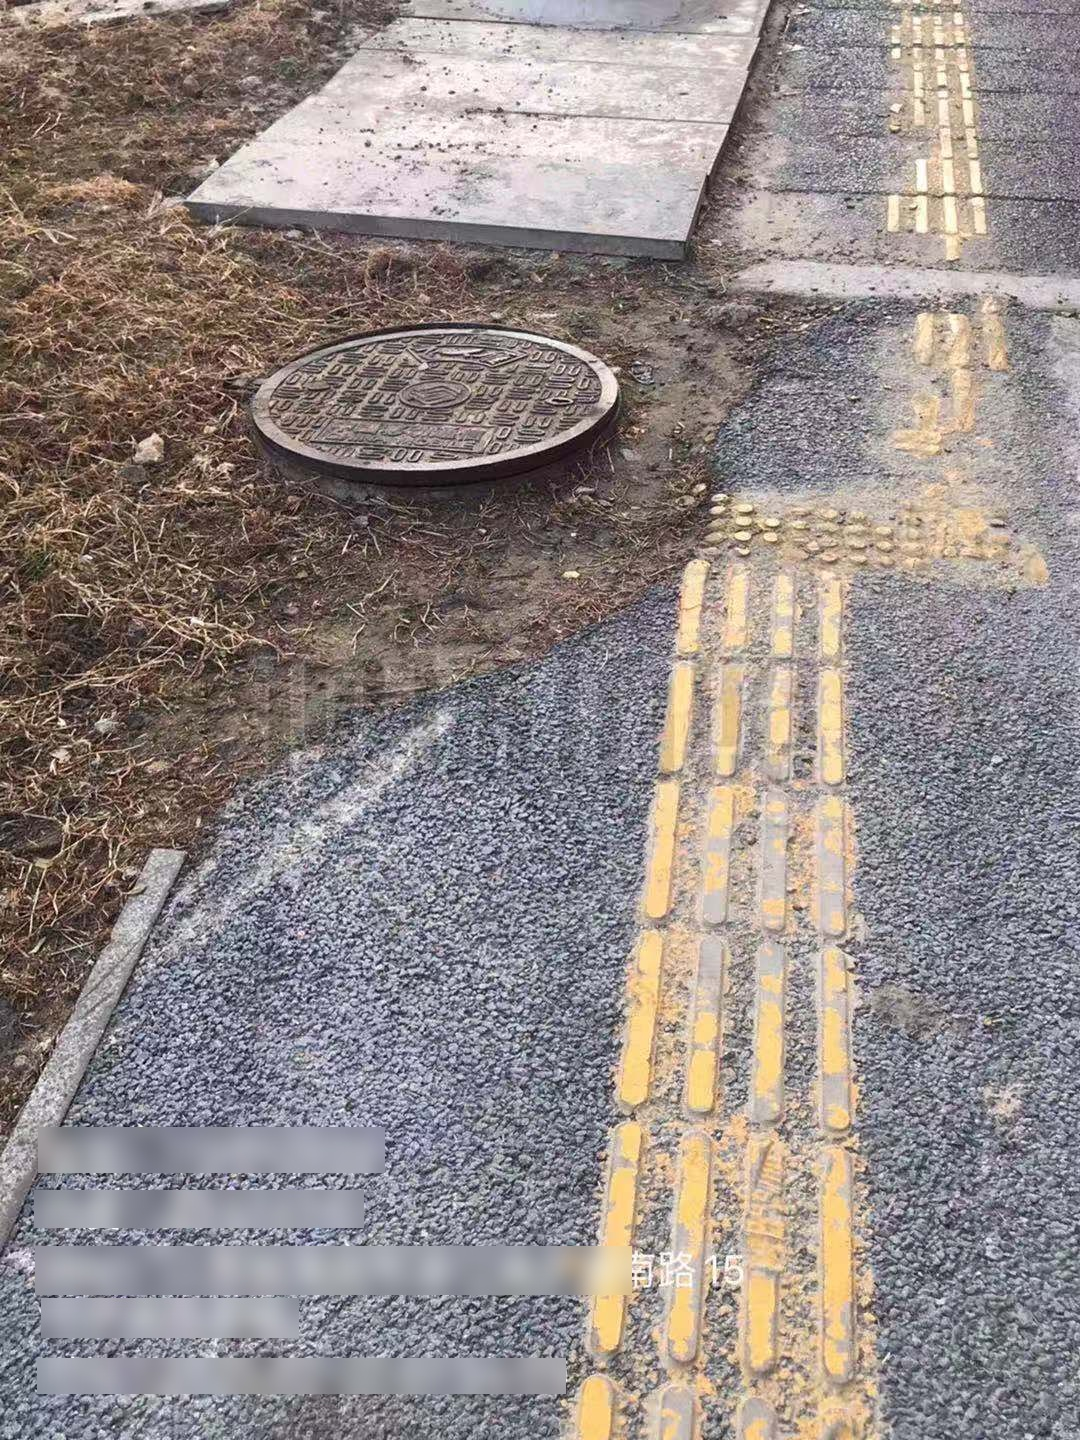uncovered: (245, 270, 644, 498)
